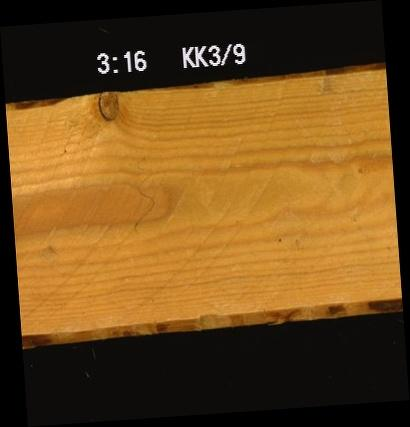edge_knot: (95, 91, 119, 121)
wave: (21, 308, 399, 335), (5, 94, 86, 115)
